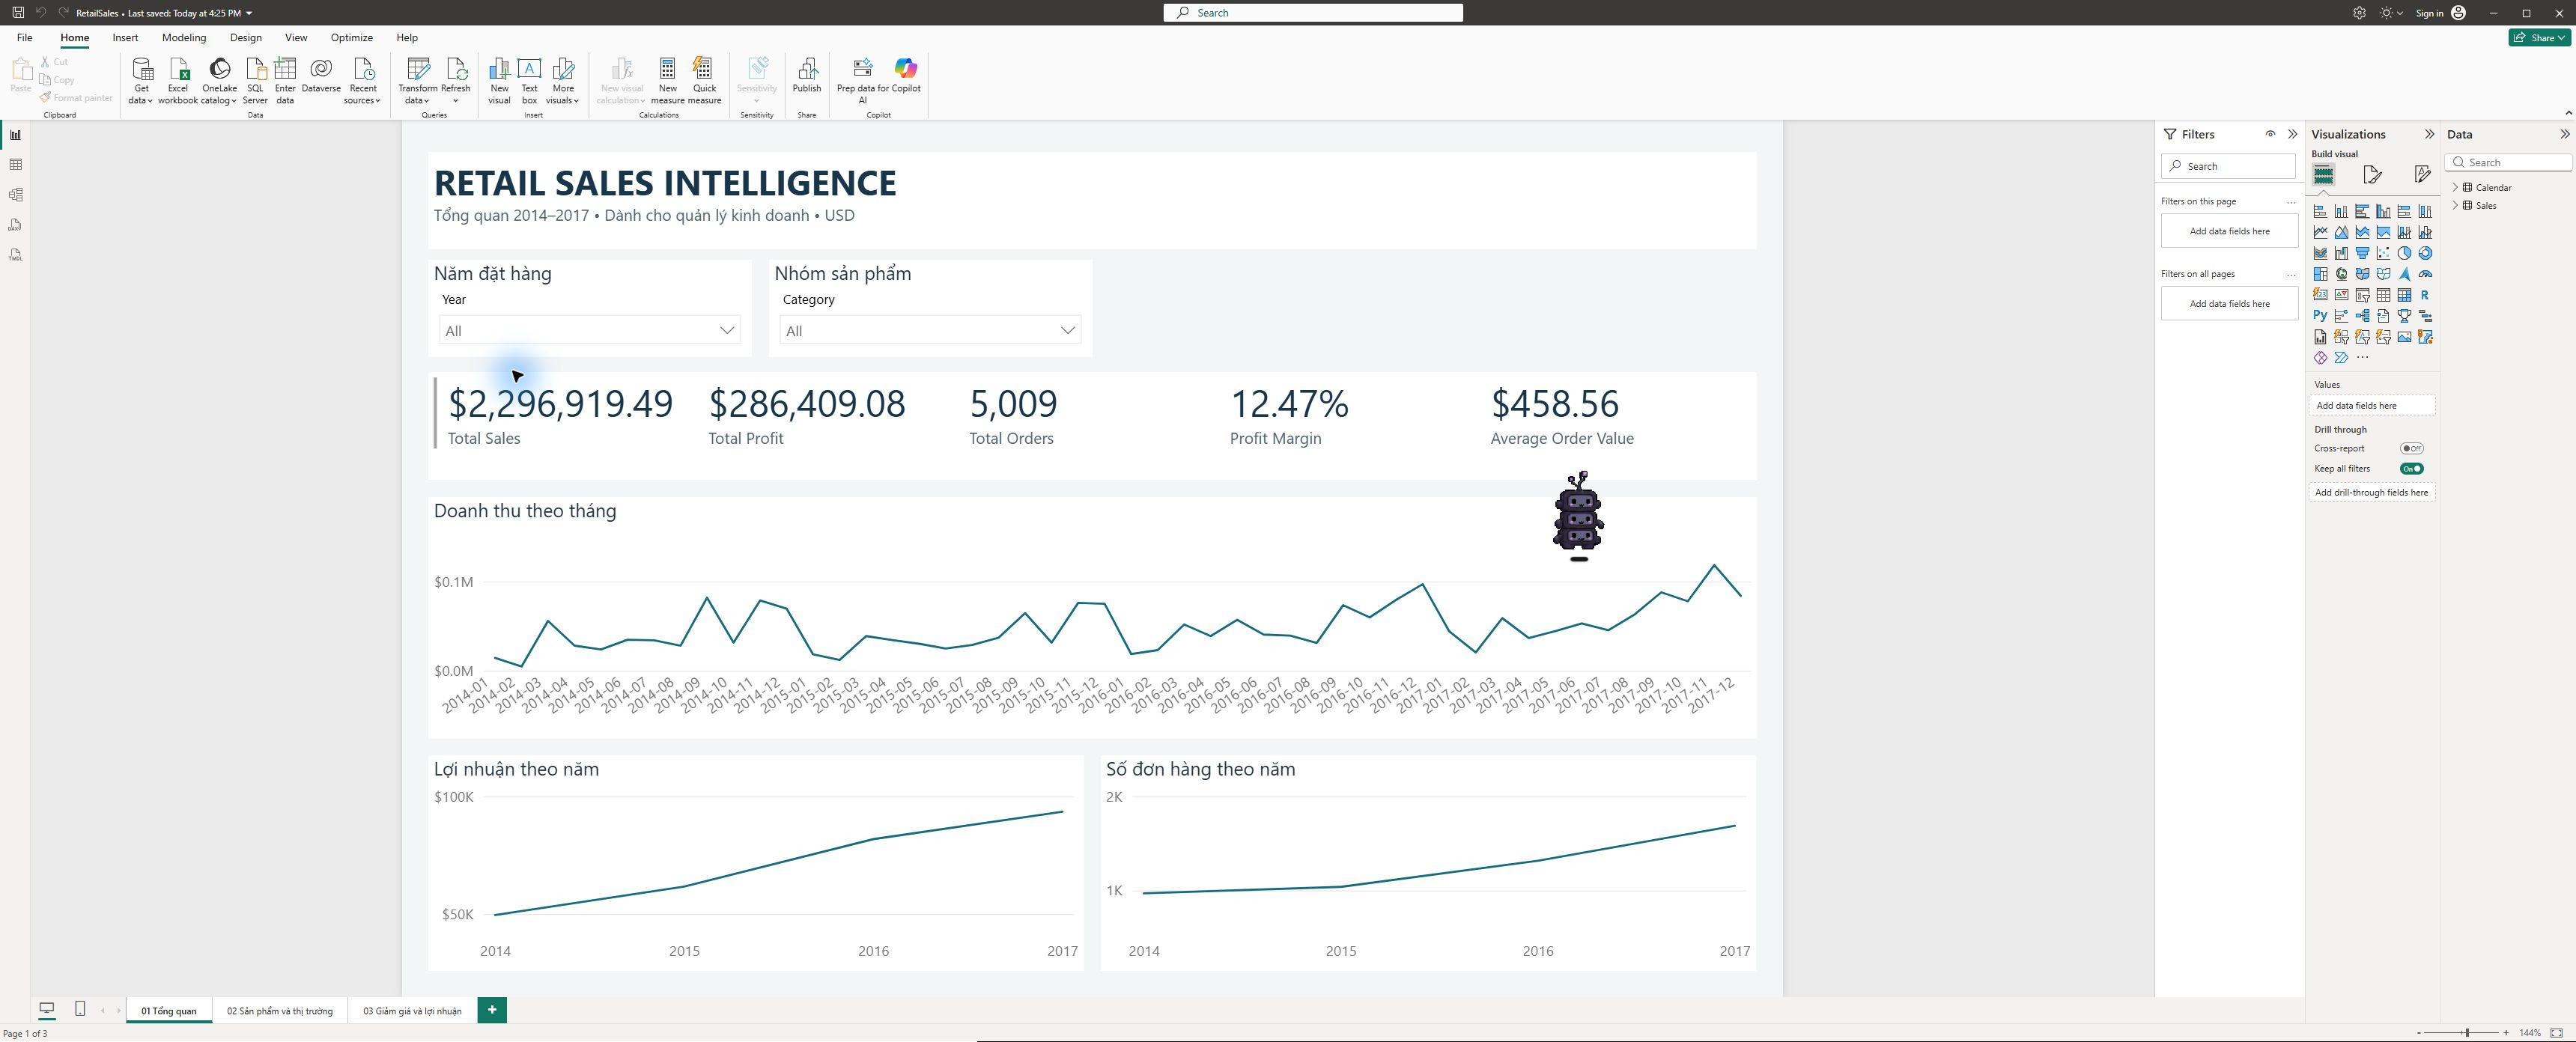

What the dashboard file says about the page in this screenshot:
{"tool":"powerbi","page":{"name":"01  Tổng quan","canvas":[1280,800],"ordinal":0},"visuals":[{"type":"textbox","box":[24,16,1232,90],"z":0},{"type":"slicer","title":"Năm đặt hàng","fields":{"Values":["Calendar.Year"]},"box":[24,116,300,90],"z":1},{"type":"slicer","title":"Nhóm sản phẩm","fields":{"Values":["Sales.Category"]},"box":[340,116,300,90],"z":2},{"type":"multiRowCard","fields":{"Values":["Sales.Total Sales","Sales.Total Profit","Sales.Total Orders","Sales.Profit Margin","Sales.Average Order Value"]},"box":[24,220,1232,100],"z":3},{"type":"lineChart","title":"Doanh thu theo tháng","fields":{"Category":["Calendar.Month"],"Y":["Sales.Total Sales"]},"box":[24,336,1232,224],"z":4},{"type":"lineChart","title":"Lợi nhuận theo năm","fields":{"Category":["Calendar.Year"],"Y":["Sales.Total Profit"]},"box":[24,576,608,200],"z":5},{"type":"lineChart","title":"Số đơn hàng theo năm","fields":{"Category":["Calendar.Year"],"Y":["Sales.Total Orders"]},"box":[648,576,608,200],"z":6}]}

Visuals, with their boxes on the page's 1280x800 design canvas (x1, y1, x2, y2). These are canvas units, not pixel positions in the 2576x1042 screenshot, which may show the page scaled, cropped or inside an application window:
textbox: {"left": 24, "top": 16, "right": 1256, "bottom": 106}
"Năm đặt hàng" slicer: {"left": 24, "top": 116, "right": 324, "bottom": 206}
"Nhóm sản phẩm" slicer: {"left": 340, "top": 116, "right": 640, "bottom": 206}
multiRowCard - Sales.Total Sales x Sales.Total Profit: {"left": 24, "top": 220, "right": 1256, "bottom": 320}
"Doanh thu theo tháng" lineChart: {"left": 24, "top": 336, "right": 1256, "bottom": 560}
"Lợi nhuận theo năm" lineChart: {"left": 24, "top": 576, "right": 632, "bottom": 776}
"Số đơn hàng theo năm" lineChart: {"left": 648, "top": 576, "right": 1256, "bottom": 776}
